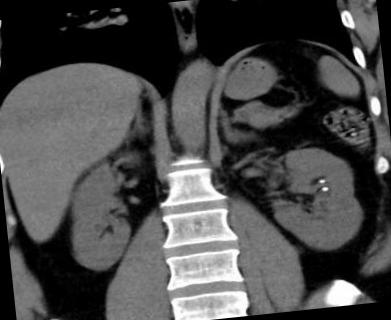Tas_Var: (318, 177, 325, 186), (320, 186, 328, 192)
